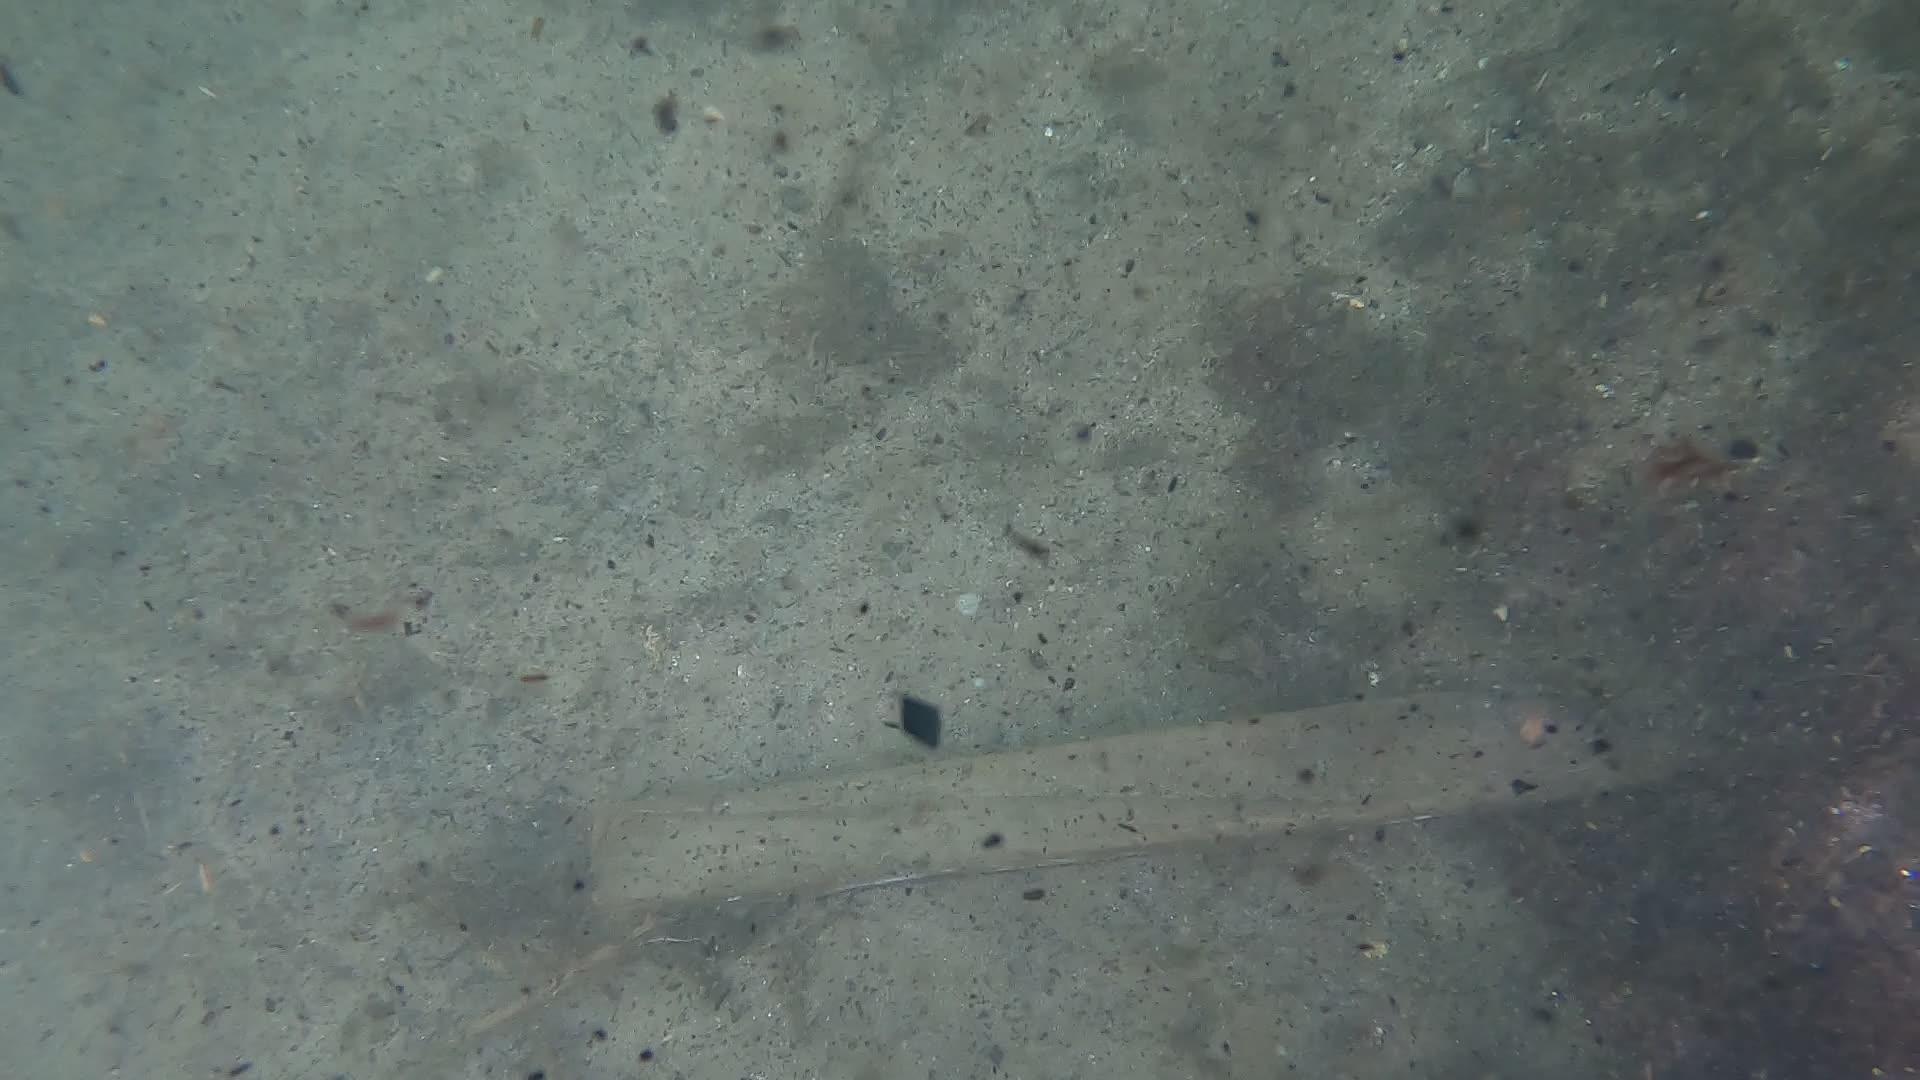wood: (589, 680, 1685, 922)
